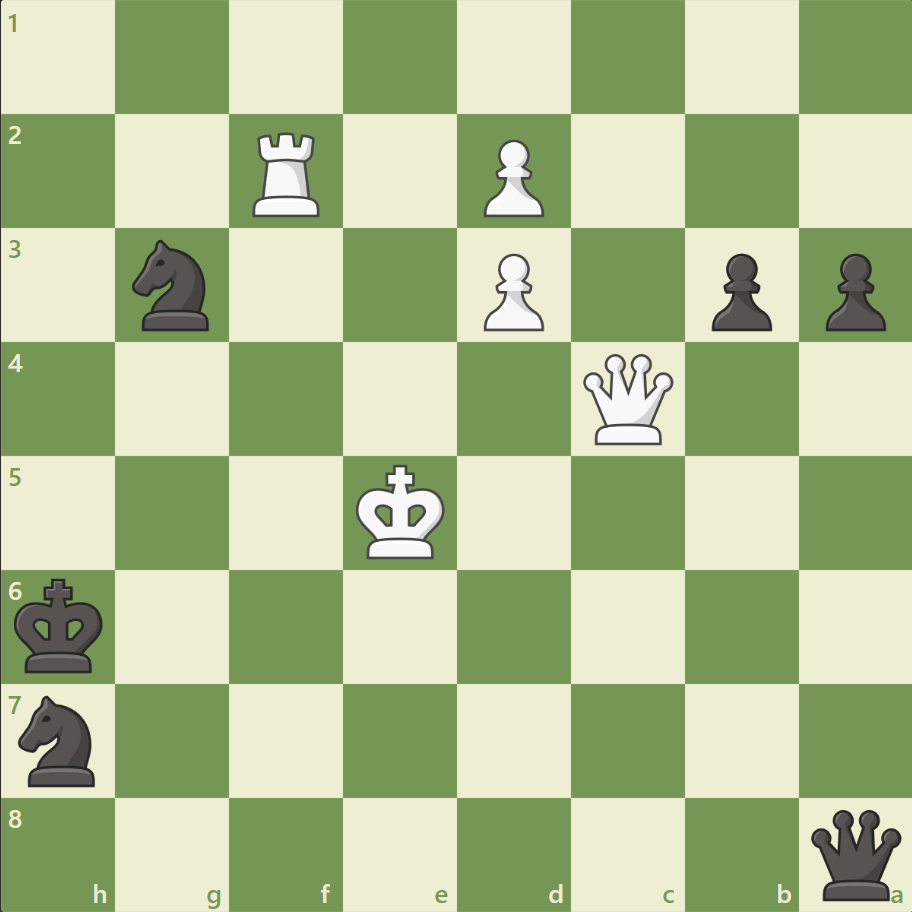K: (351, 458, 451, 566)
P: (474, 246, 549, 337), (474, 132, 549, 223)
Q: (578, 349, 677, 449)
R: (246, 125, 329, 222)
k: (11, 571, 111, 679)
n: (124, 234, 222, 337), (11, 688, 108, 791)
p: (701, 246, 776, 337), (815, 246, 889, 337)
q: (805, 804, 904, 903)
